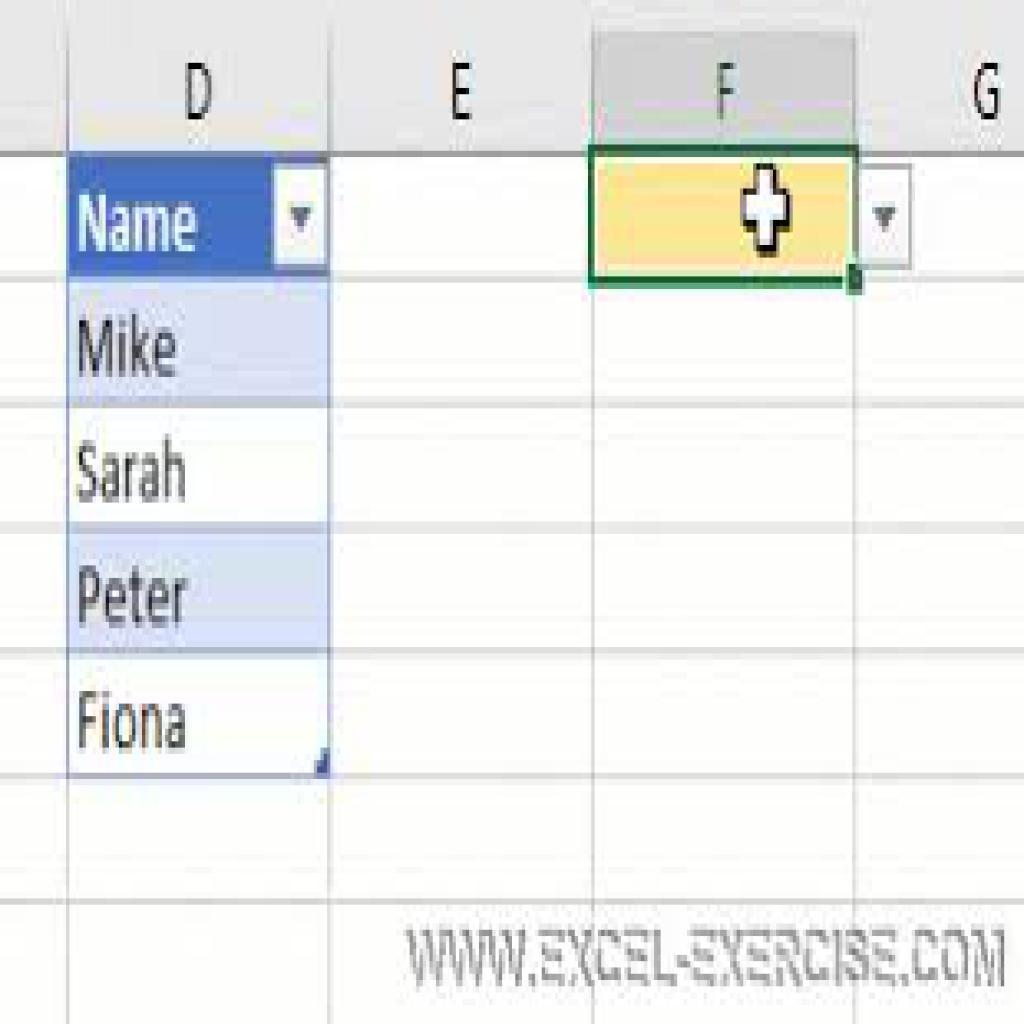dropdown: (590, 148, 916, 278), (71, 156, 329, 277)
table: (1, 10, 1024, 1024)
